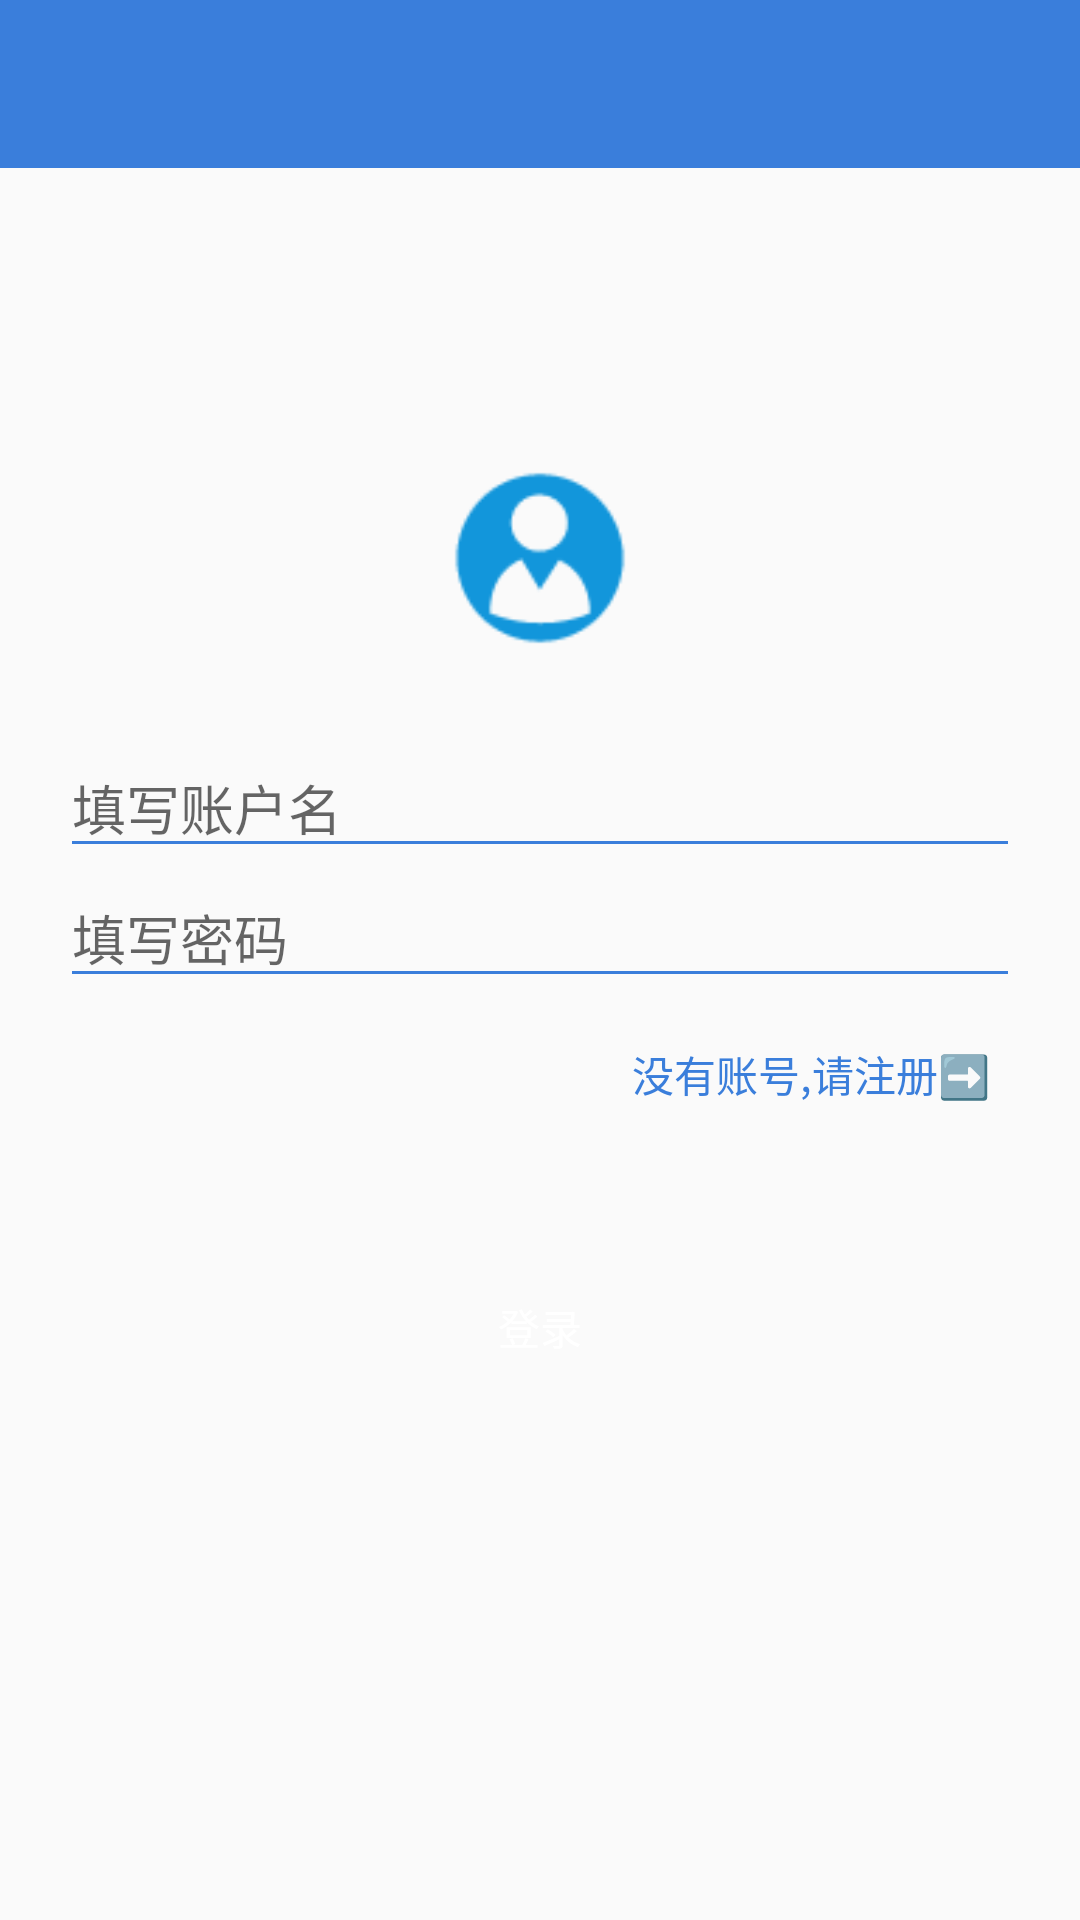

Locate icon controls on the screen. Image size 1080px x 1920px, boxes as {"x1": x1, "y1": y1, "x2": x2, "y2": y2}.
peopleicon: {"x1": 455, "y1": 473, "x2": 625, "y2": 643}
